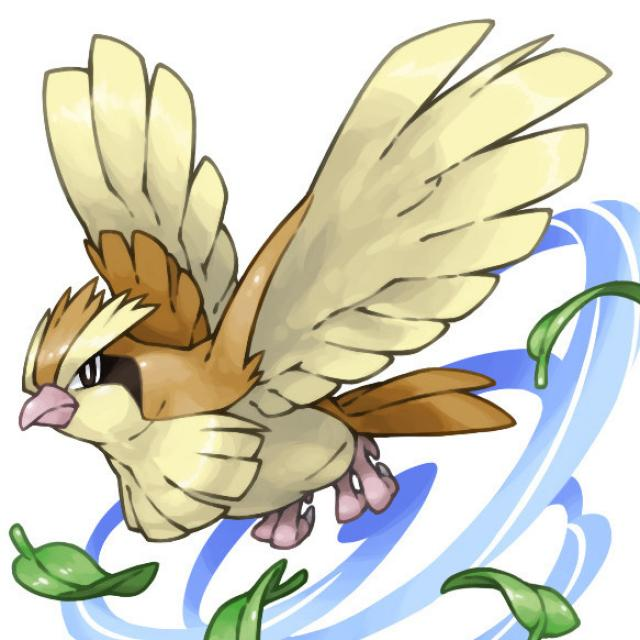Pidgey: (24, 176, 404, 546)
